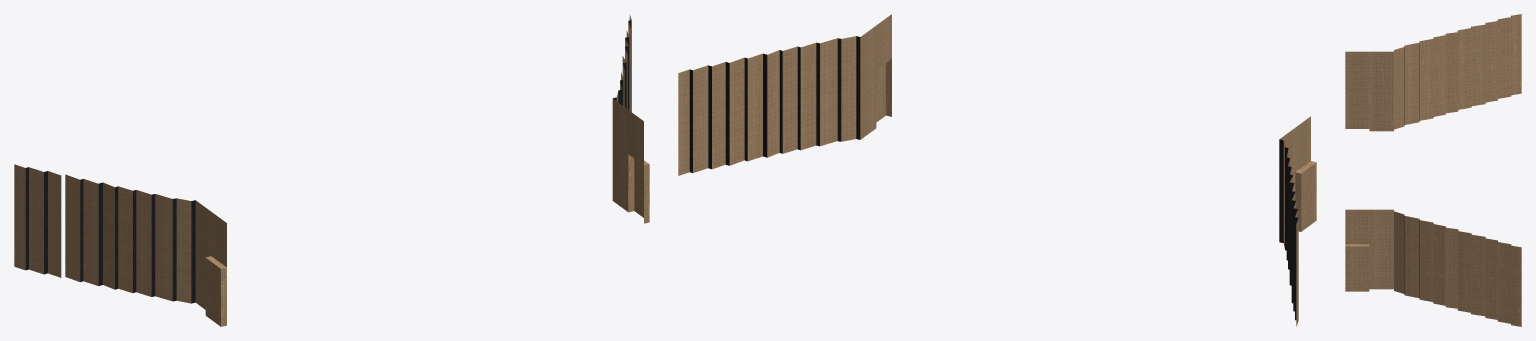
Rendered from ULT_Wooden_Wall.FBX.
3 views of the same model, side by side, from view 1: azimuth 30°, elevation 25°; view 2: azimuth 150°, elevation 25°; view 3: azimuth 270°, elevation 25° (orthographic). The views are drawn at different scales.
Visible parts, largest first — view 1: ULT_Wooden_Wall; view 2: ULT_Wooden_Wall; view 3: ULT_Wooden_Wall.
Boxes of the visible parts, box(x1,y1,x2,y2) form: ULT_Wooden_Wall: box(14, 15, 649, 326); ULT_Wooden_Wall: box(678, 14, 1316, 326); ULT_Wooden_Wall: box(1345, 14, 1521, 326).
Size of the model in its own units: 39500 by 6285 by 12624.
